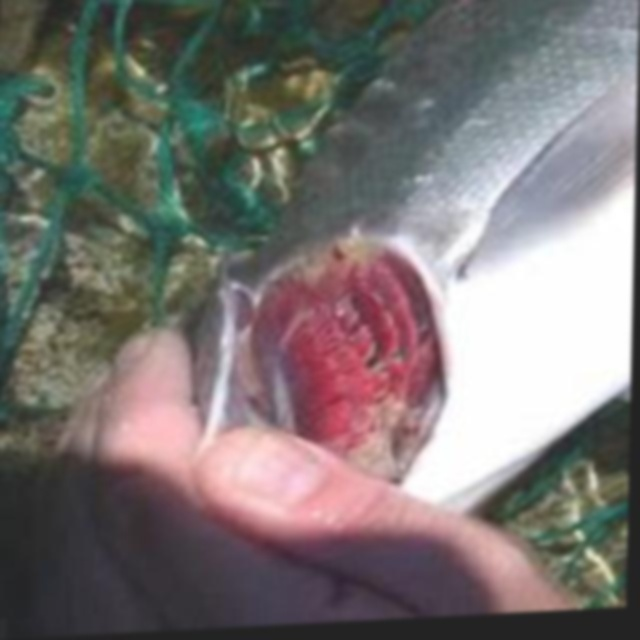Gill Disease: (182, 208, 544, 523)
